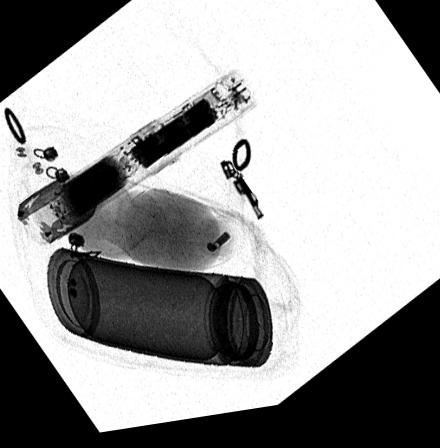Baton: (16, 74, 258, 248)
